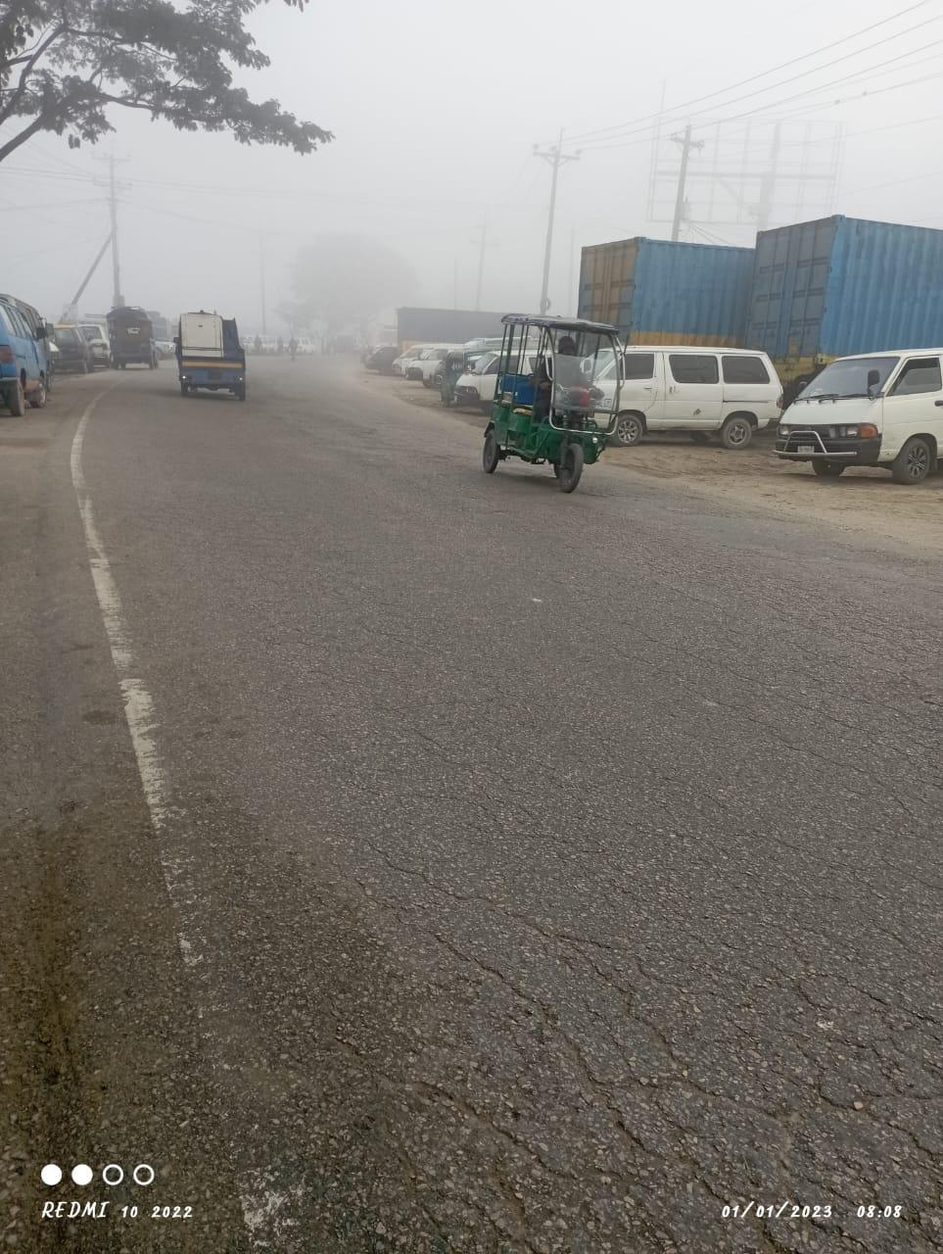Car: (467, 301, 640, 505), (776, 340, 943, 502), (596, 338, 784, 458)
Truck: (161, 297, 259, 411)
